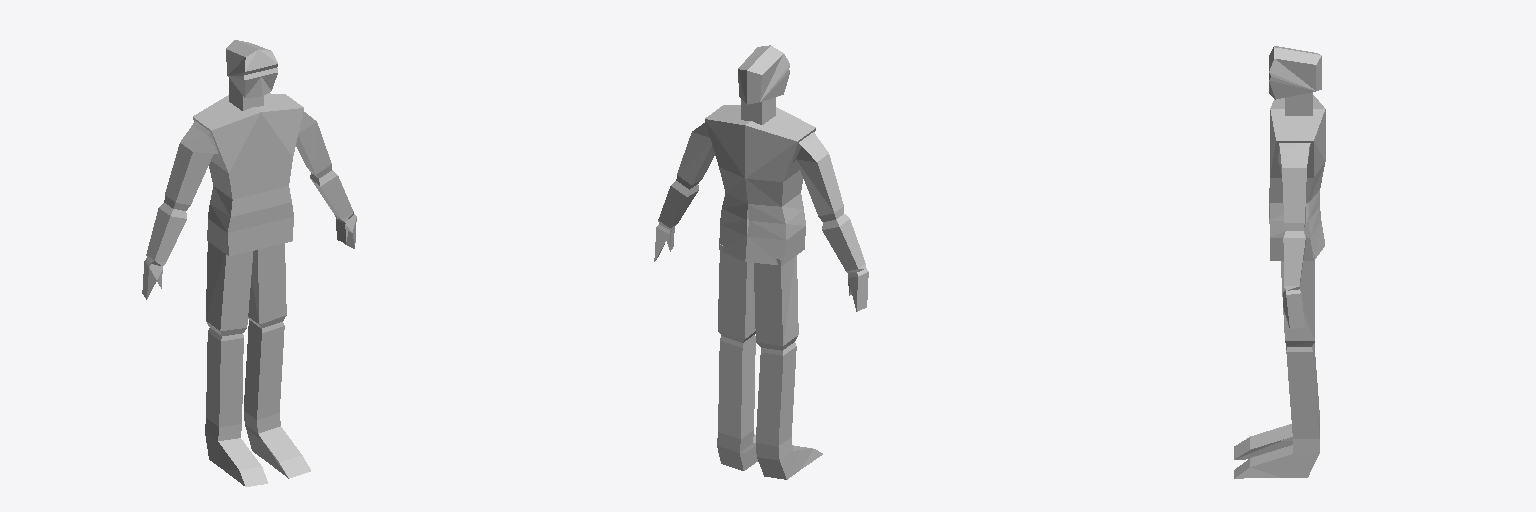
The model's file is better-human.obj.
3 renders of one model, left to right at view 1: azimuth 30°, elevation 25°; view 2: azimuth 150°, elevation 25°; view 3: azimuth 270°, elevation 25°, orthographic.
Visible parts, largest first — view 1: Human_Cube; view 2: Human_Cube; view 3: Human_Cube.
Boxes of the visible parts, <box> form: Human_Cube: <box>142,40,356,486</box>; Human_Cube: <box>654,45,868,479</box>; Human_Cube: <box>1234,46,1325,478</box>.
Bounding box in the file's own units: 0.9016 × 1.73 × 0.3412.